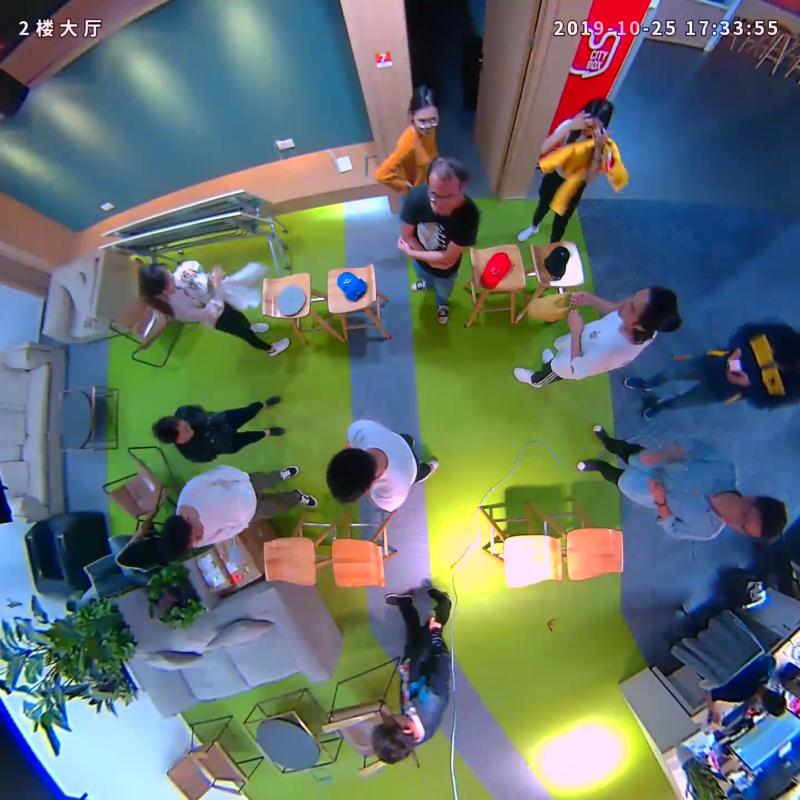head: (718, 494, 788, 543), (326, 446, 378, 505), (615, 285, 678, 331), (426, 154, 468, 215), (372, 711, 419, 764), (159, 513, 205, 550), (409, 85, 440, 136), (579, 97, 613, 136), (138, 263, 175, 295), (153, 415, 193, 444)
